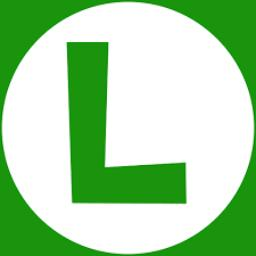l: (61, 36, 191, 210)
